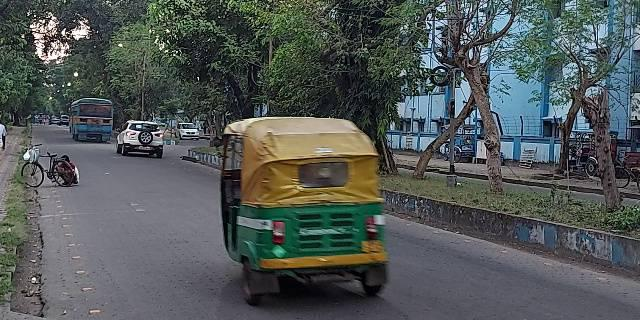Autorickshaw: (215, 113, 397, 298)
Bus: (67, 96, 116, 144)
Car: (120, 118, 168, 162)
Cycle: (22, 150, 76, 187)
